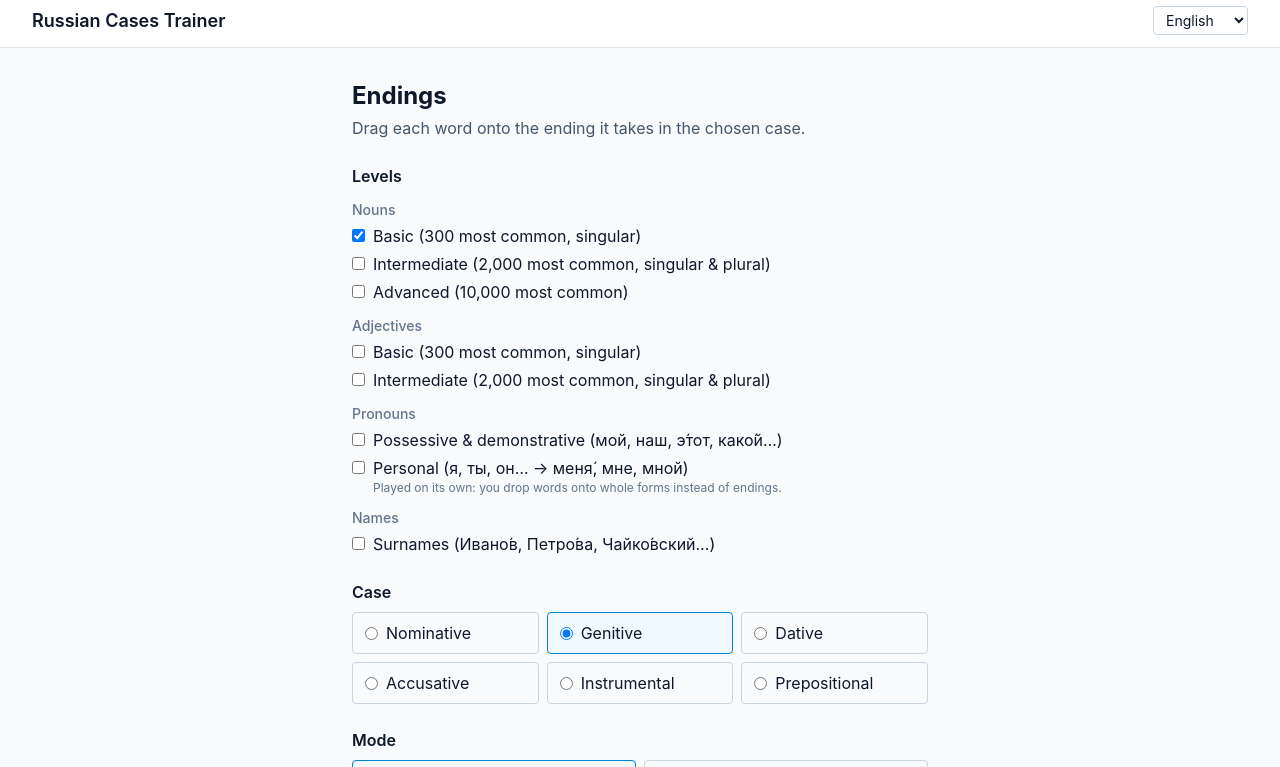
Test: a practice round from setup to summary
Click the radio button labelled "Instrumental". click: point(566, 683)
box: 560,676 -> 573,690
(page scrolled)
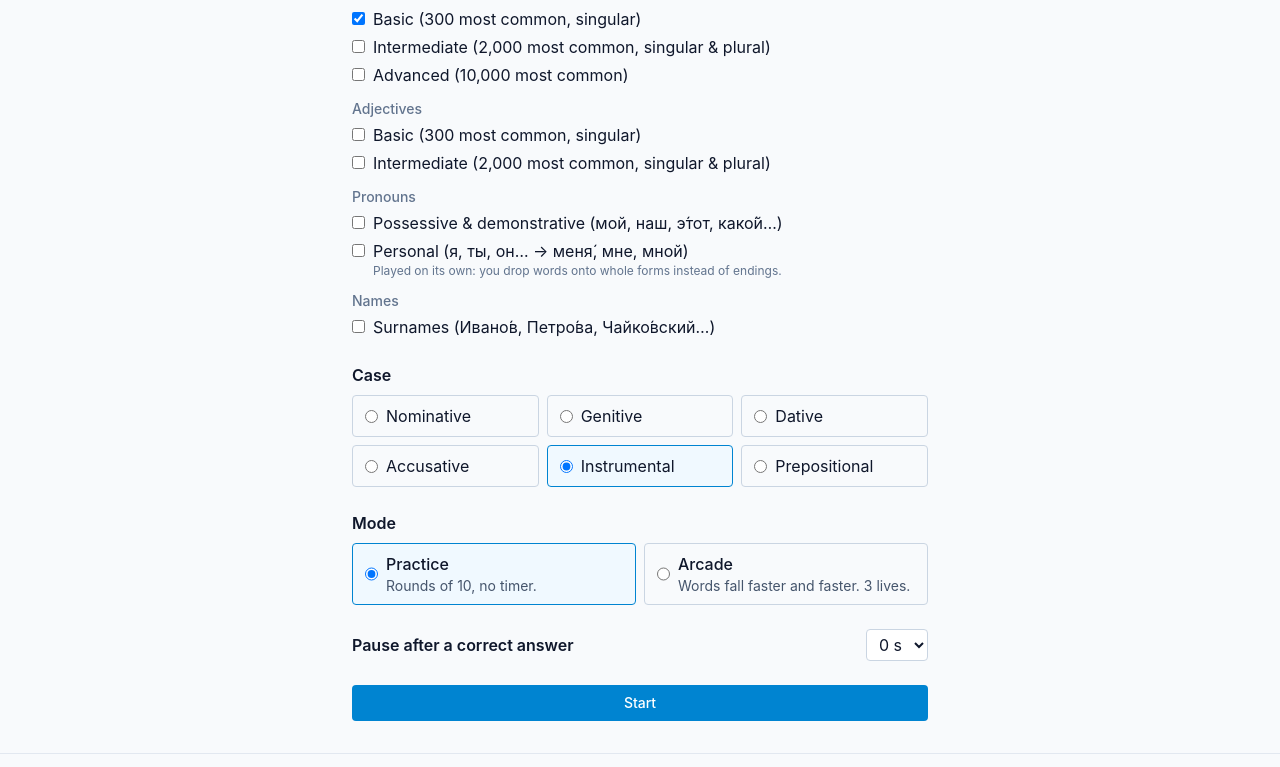
Click the button "Start". click: point(640, 703)
box: 352,685 -> 928,721
(page scrolled)
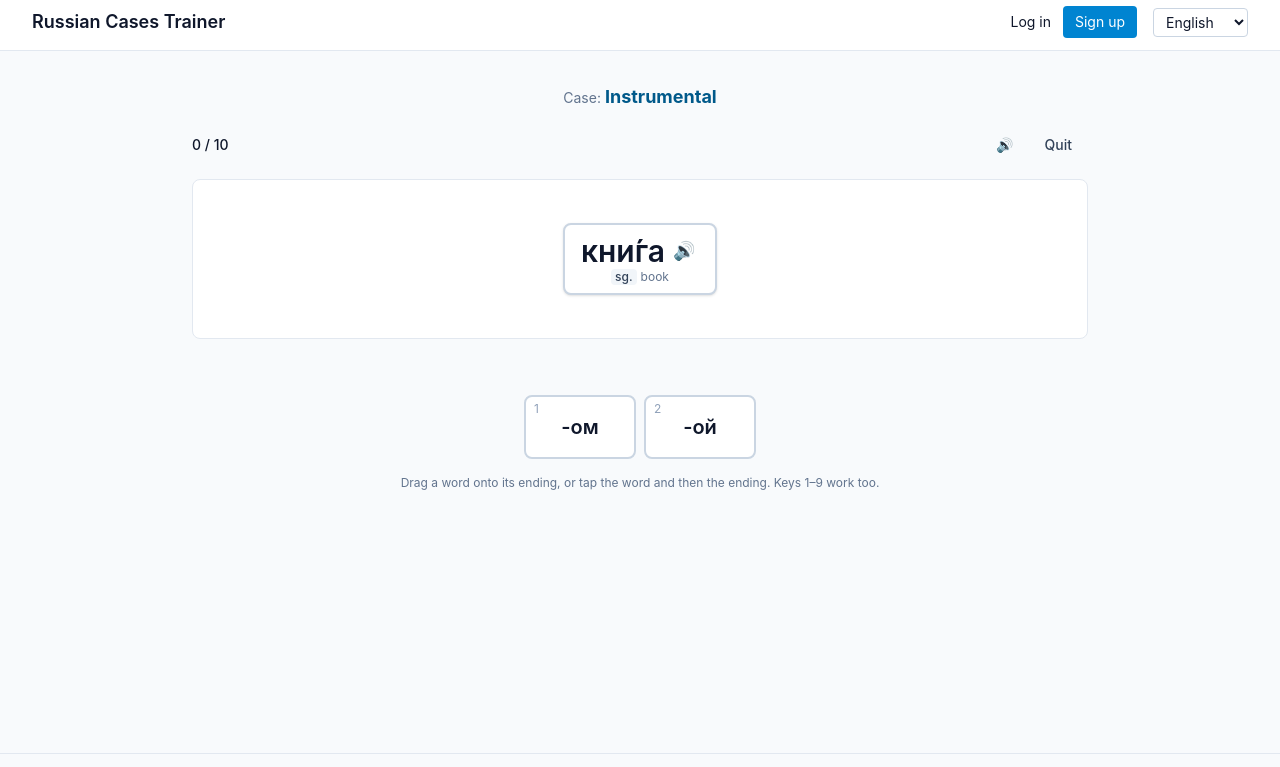
expect the text "Instrumental" is shown: met, box 605,86 -> 717,107
expect the text "кни́га" is shown: met, box 581,233 -> 665,269
Click the button "-ой 2". click: point(700, 427)
box: 644,395 -> 756,459
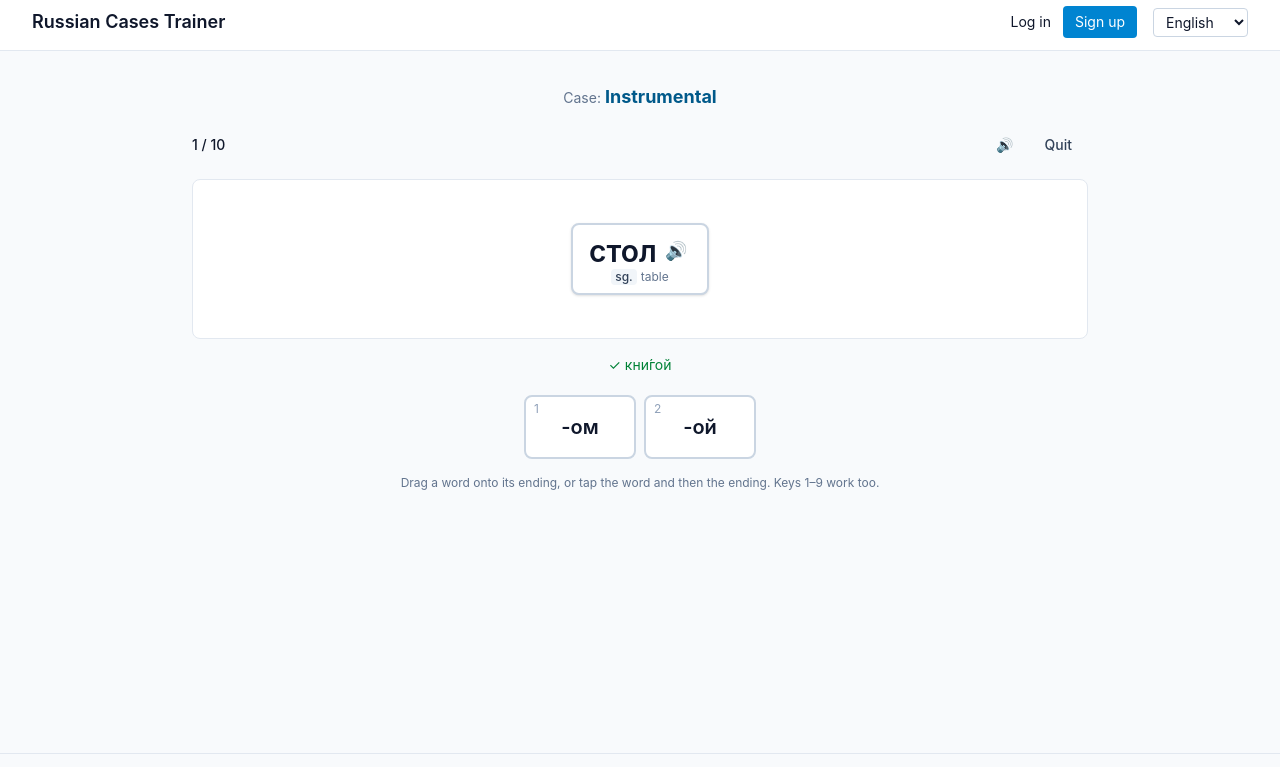
expect the text "✓ кни́гой" is shown: met, box 608,356 -> 672,373
expect the text "стол" is shown: met, box 589,233 -> 657,269
Click the button "-ой 2". click: point(700, 427)
box: 644,395 -> 756,459
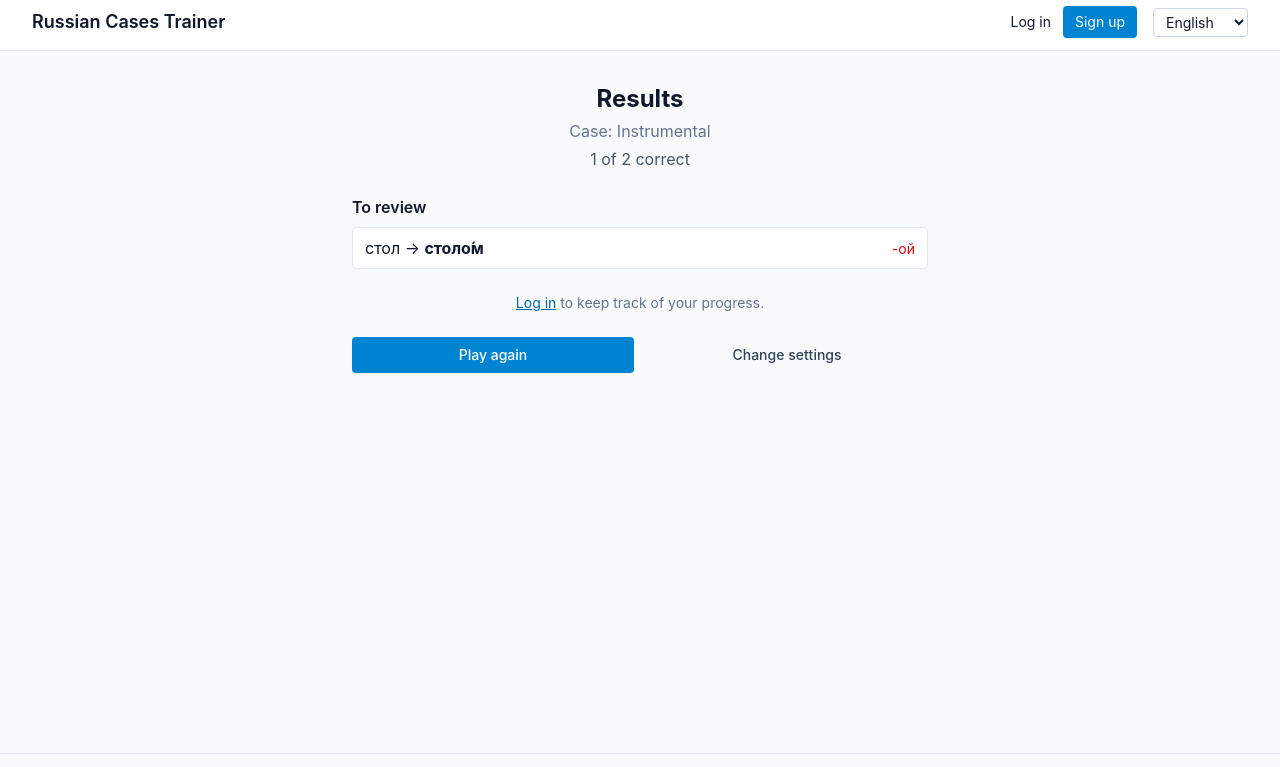
expect the heading "Results" is shown: met, box 596,84 -> 684,113
expect the text "1 of 2 correct" is shown: met, box 590,149 -> 690,169
expect the text "столо́м" is shown: met, box 424,238 -> 484,258
